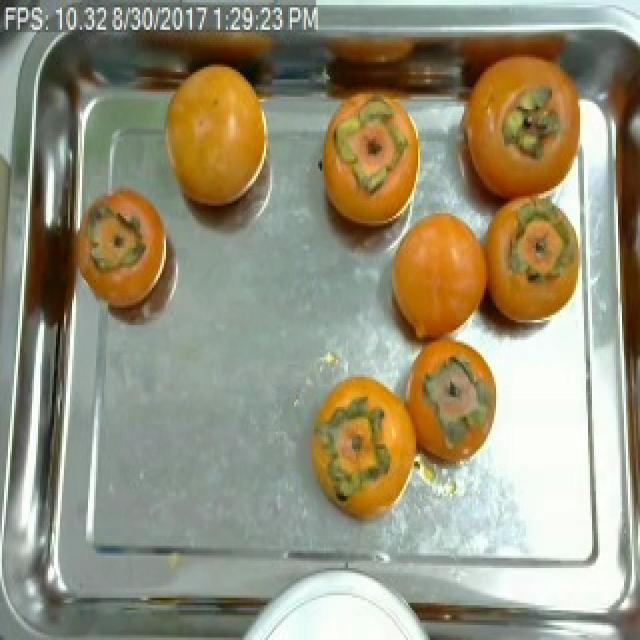Fruit: (148, 47, 286, 223), (298, 364, 434, 540), (308, 84, 432, 273), (376, 196, 500, 357), (398, 328, 508, 482), (80, 176, 186, 335)
